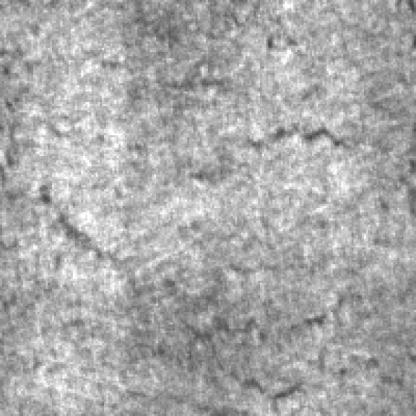crazing: (40, 185, 354, 410)
